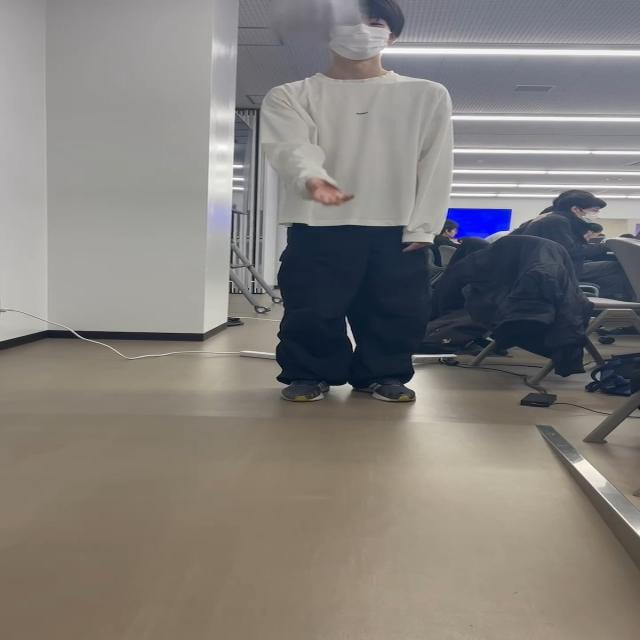paper: (258, 0, 372, 36)
